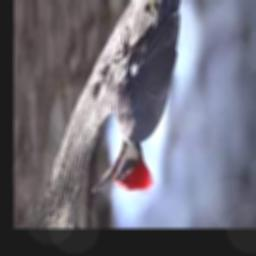Woodpecker: (93, 0, 183, 194)
